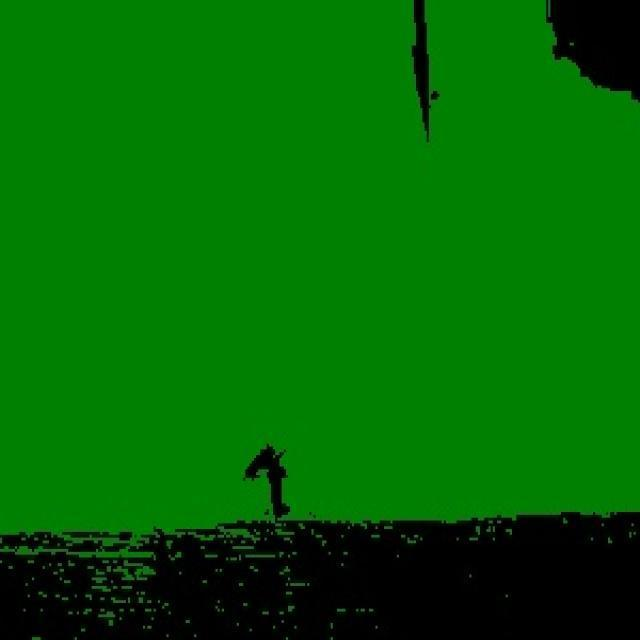crack: (237, 441, 306, 527)
